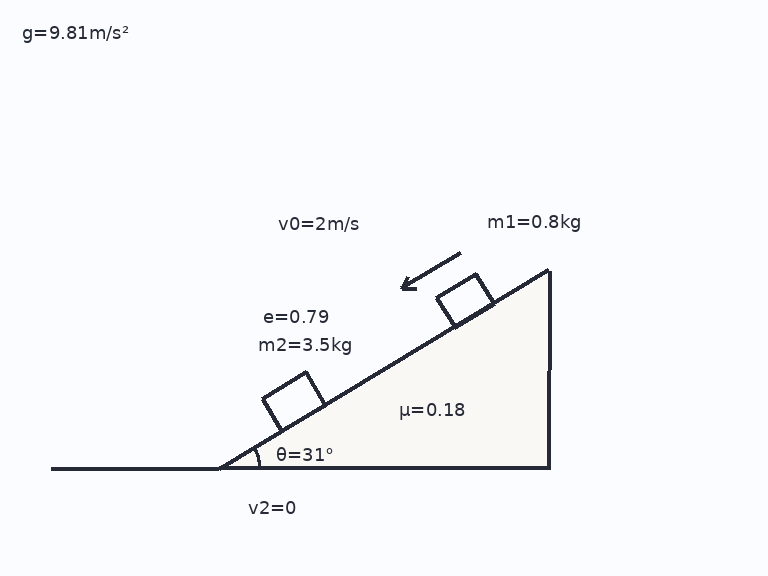block: (260, 370, 327, 433), (435, 272, 496, 329)
ramp: (217, 268, 550, 470)
